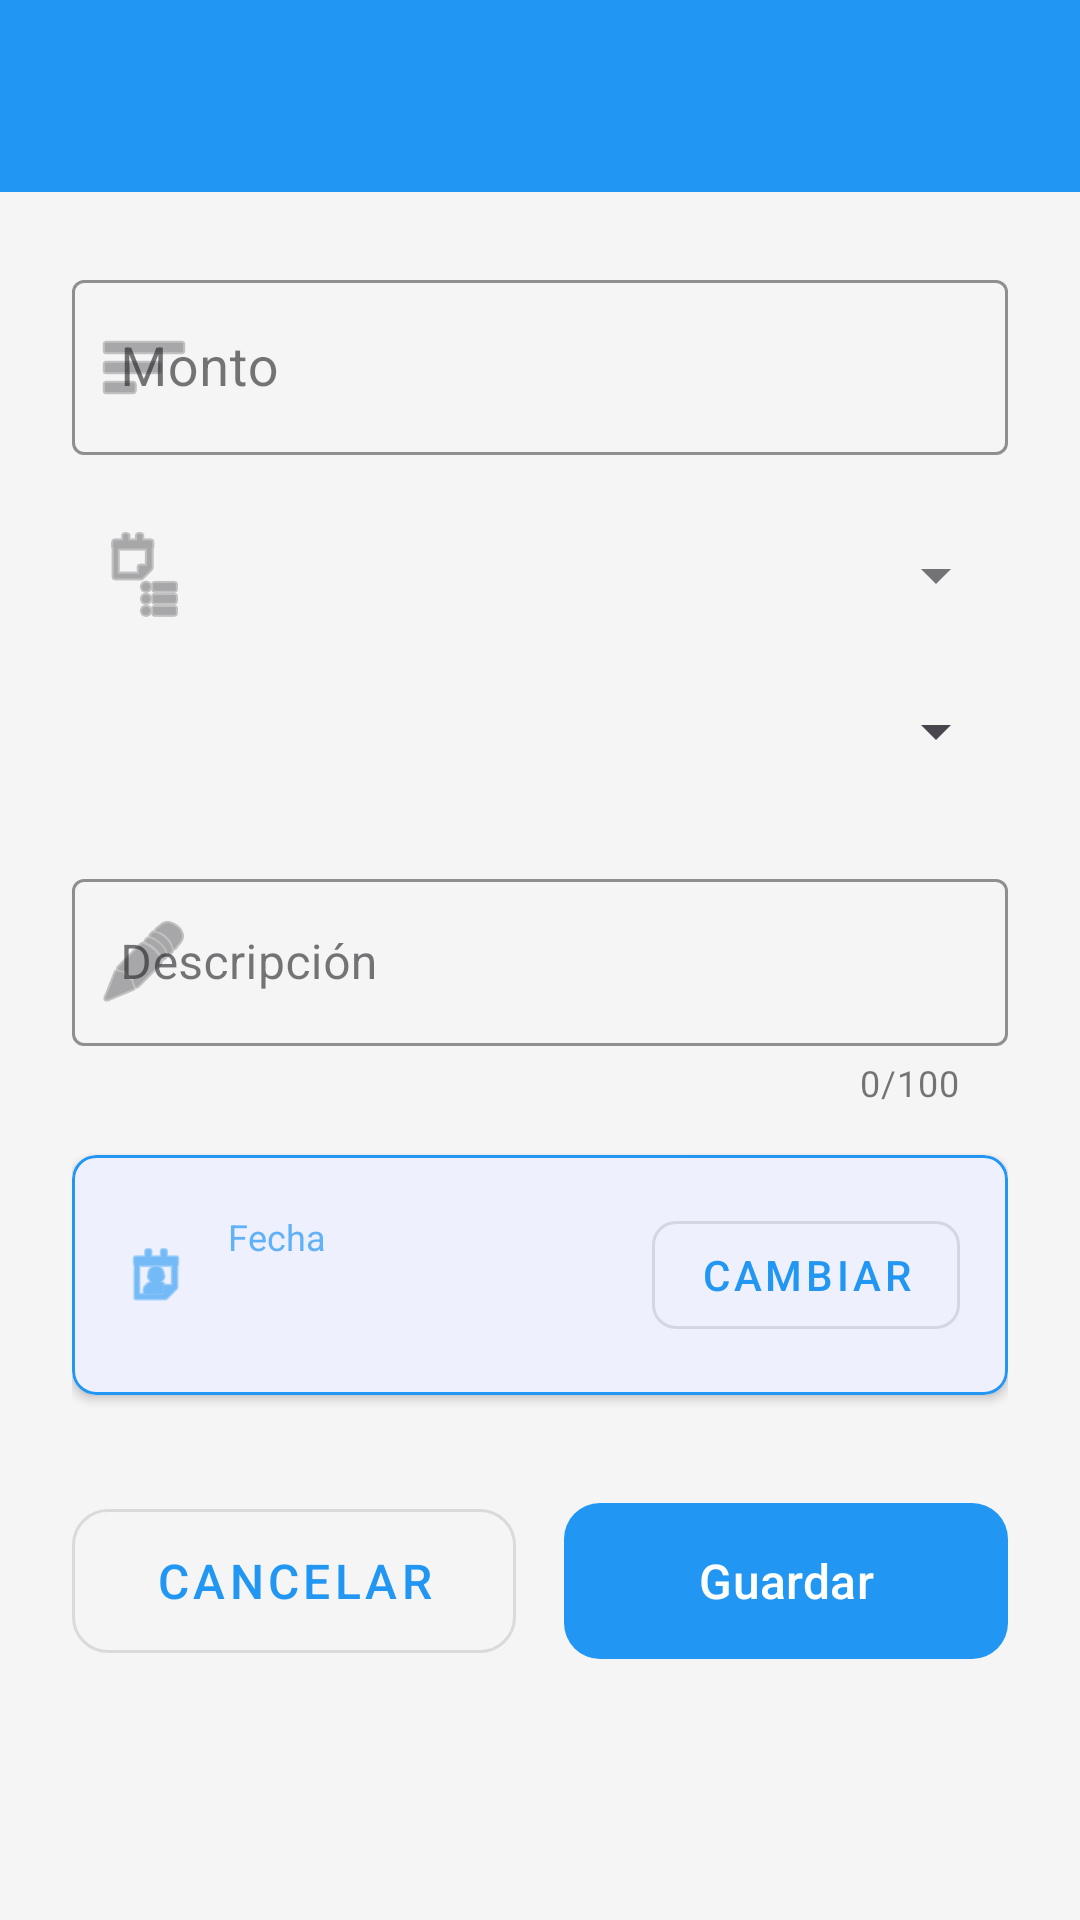

Where icons sit on this 1080px×1920px app screen, as (x1=x1, y1=y1, x2=x2, y2=y2):
calendar: (x1=133, y1=1248, x2=179, y2=1301)
